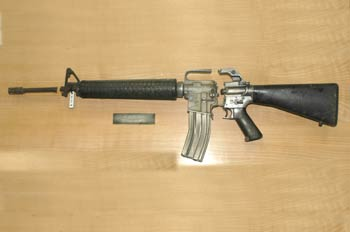rifle: (8, 45, 343, 159)
